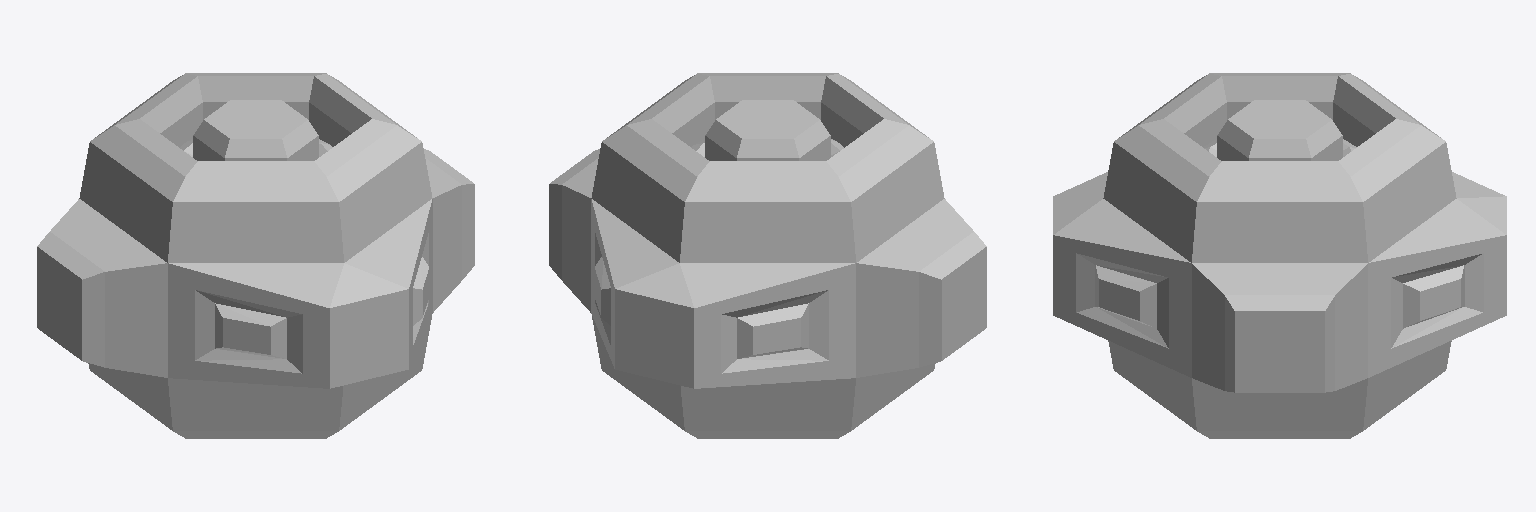
File: station_core.obj
The picture shows the model from 3 angles: view 1: azimuth 30°, elevation 25°; view 2: azimuth 150°, elevation 25°; view 3: azimuth 270°, elevation 25°; orthographic projection.
Visible parts, largest first — view 1: Cylinder; view 2: Cylinder; view 3: Cylinder.
Part boxes in pixels (x1,y1,x2,y2): Cylinder: (37,73,474,438); Cylinder: (549,73,986,438); Cylinder: (1053,73,1506,438).
Bounding box in the file's own units: 3 × 2 × 3.